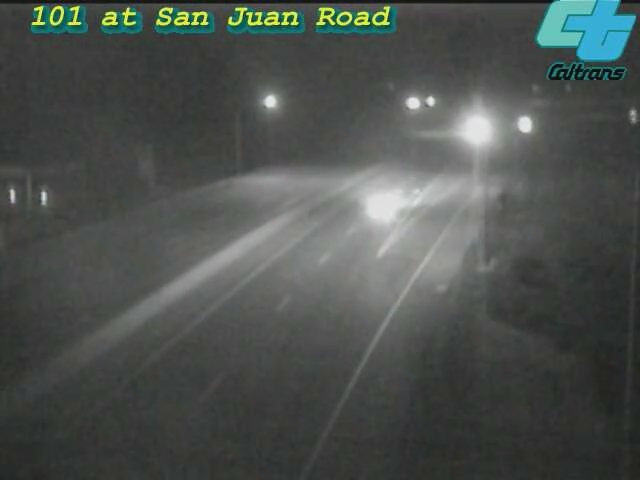vehicle: (344, 164, 424, 244), (452, 104, 502, 154), (496, 100, 546, 150)
